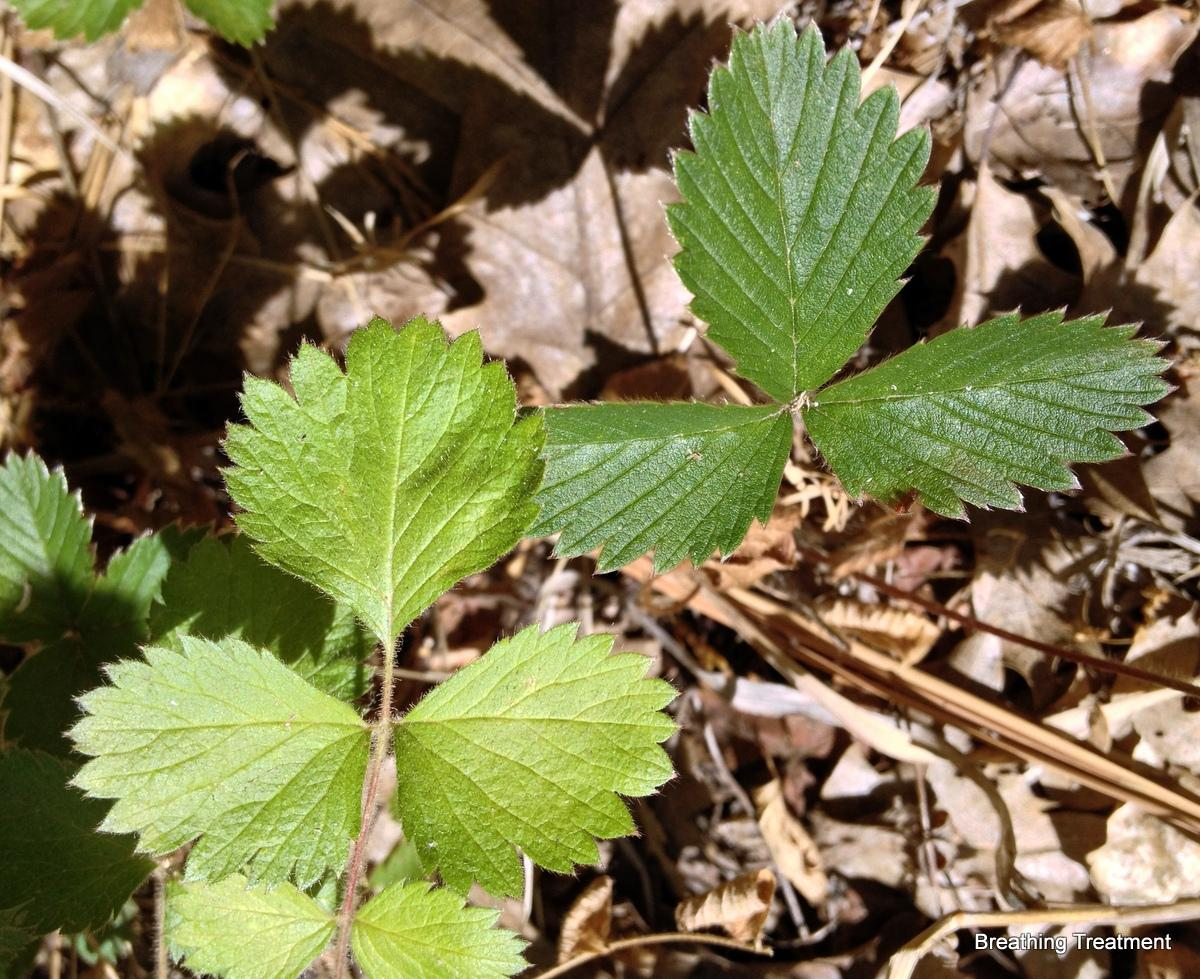Strawberry leaf: (668, 7, 942, 404), (237, 298, 554, 641), (377, 598, 668, 899), (817, 296, 1177, 535), (65, 628, 388, 878), (514, 406, 800, 569)
